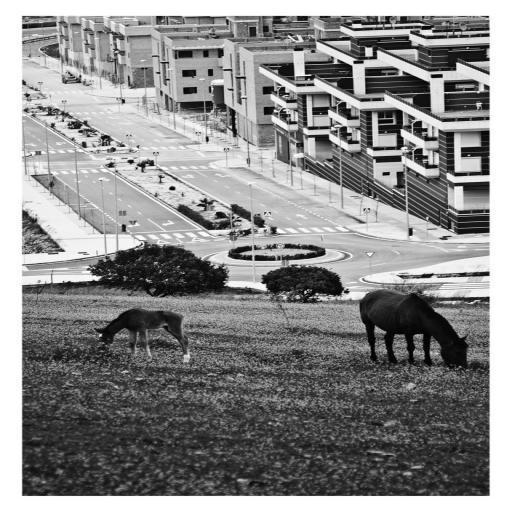horse: (357, 287, 472, 371), (90, 306, 191, 363)
